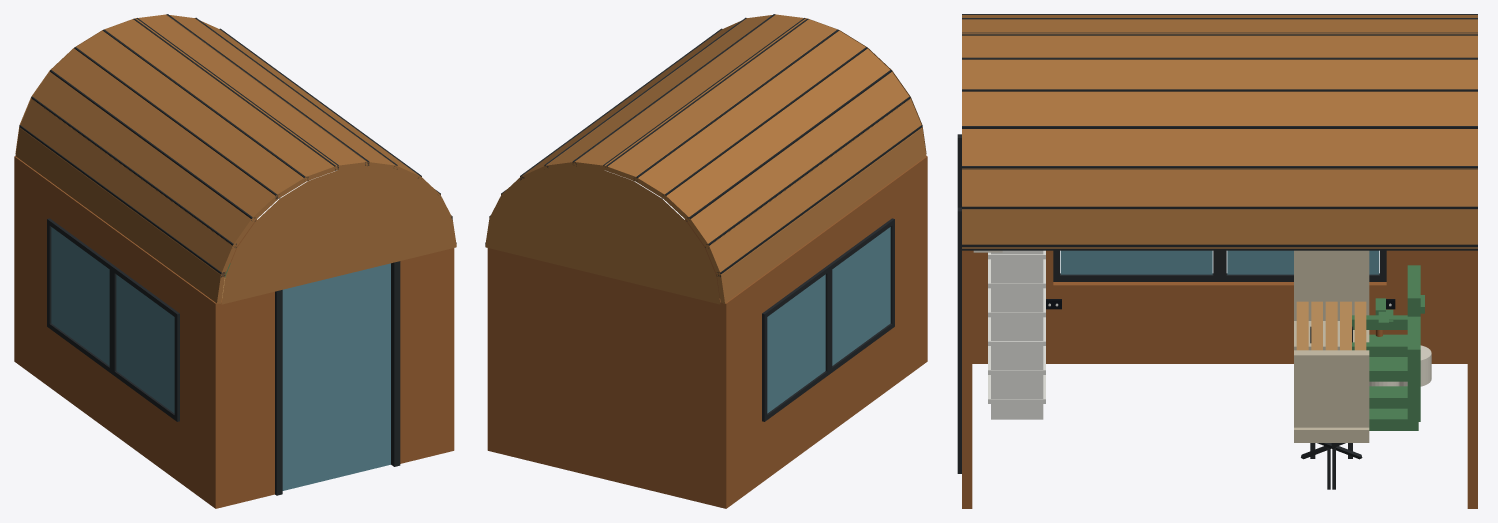
File: A4_interior_camping_blockout.glb
3 views of the same model, side by side, from view 1: azimuth 30°, elevation 25°; view 2: azimuth 150°, elevation 25°; view 3: azimuth 270°, elevation 25° (orthographic). The views are drawn at different scales.
Visible parts, largest first — view 1: ARCH_A4_DOOR_GLASS, ARCH_A4_ROOF_SOUTH_END_CAP, ARCH_A4_WEST_WALL_BELOW_WINDOWS, ARCH_A4_SOUTH_WALL_L, ARCH_A4_SOUTH_WALL_R, ARCH_A4_ROOF_PANEL_04, ARCH_A4_ROOF_PANEL_03, ARCH_A4_WEST_WALL_ABOVE_WINDOWS, ARCH_A4_ROOF_PANEL_05, ARCH_A4_ROOF_PANEL_02, ARCH_A4_ROOF_PANEL_06, ARCH_A4_ROOF_PANEL_01 (+21 smaller); view 2: ARCH_A4_NORTH_WALL, ARCH_A4_ROOF_NORTH_END_CAP, ARCH_A4_WEST_WALL_BELOW_WINDOWS, ARCH_A4_ROOF_PANEL_04, ARCH_A4_ROOF_PANEL_03, ARCH_A4_ROOF_PANEL_05, ARCH_A4_WEST_WALL_ABOVE_WINDOWS, ARCH_A4_ROOF_PANEL_02, ARCH_A4_ROOF_PANEL_06, ARCH_A4_ROOF_PANEL_01, ARCH_A4_WEST_WINDOW_01, ARCH_A4_WEST_WINDOW_02 (+17 smaller); view 3: ARCH_A4_WEST_WALL_BELOW_WINDOWS, ARCH_A4_ROOF_PANEL_11, ARCH_A4_ROOF_PANEL_10, ARCH_A4_ROOF_PANEL_12, ARCH_A4_ROOF_PANEL_09, ARCH_A4_ROOF_PANEL_08, ARCH_A4_ROOF_PANEL_07, ARCH_A4_ROOF_PANEL_06, FURN_A4_WHITE_SHELF_6TIER_UPRIGHT_2, FURN_A4_CAMP_CHAIR_N_BACK, FURN_A4_CAMP_CHAIR_S_BACK, ARCH_A4_WEST_WINDOW_01 (+30 smaller).
Boxes of the visible parts, x1,y1,x2,y2 form: ARCH_A4_DOOR_GLASS: [282, 263, 390, 490]; ARCH_A4_ROOF_SOUTH_END_CAP: [221, 166, 456, 304]; ARCH_A4_WEST_WALL_BELOW_WINDOWS: [14, 300, 222, 508]; ARCH_A4_SOUTH_WALL_L: [219, 291, 274, 507]; ARCH_A4_SOUTH_WALL_R: [400, 248, 454, 463]; ARCH_A4_ROOF_PANEL_04: [52, 47, 279, 220]; ARCH_A4_ROOF_PANEL_03: [31, 72, 255, 245]; ARCH_A4_WEST_WALL_ABOVE_WINDOWS: [14, 156, 222, 339]; ARCH_A4_ROOF_PANEL_05: [76, 29, 307, 198]; ARCH_A4_ROOF_PANEL_02: [19, 98, 236, 275]; ARCH_A4_ROOF_PANEL_06: [105, 18, 337, 181]; ARCH_A4_ROOF_PANEL_01: [15, 128, 225, 303]; ARCH_A4_NORTH_WALL: [487, 248, 722, 507]; ARCH_A4_ROOF_NORTH_END_CAP: [485, 166, 720, 304]; ARCH_A4_WEST_WALL_BELOW_WINDOWS: [723, 300, 927, 508]; ARCH_A4_ROOF_PANEL_04: [662, 47, 889, 220]; ARCH_A4_ROOF_PANEL_03: [686, 72, 910, 245]; ARCH_A4_ROOF_PANEL_05: [634, 29, 865, 197]; ARCH_A4_WEST_WALL_ABOVE_WINDOWS: [723, 156, 927, 339]; ARCH_A4_ROOF_PANEL_02: [705, 98, 922, 275]; ARCH_A4_ROOF_PANEL_06: [604, 18, 836, 181]; ARCH_A4_ROOF_PANEL_01: [716, 128, 926, 303]; ARCH_A4_WEST_WINDOW_01: [832, 227, 890, 365]; ARCH_A4_WEST_WINDOW_02: [767, 274, 825, 413]; ARCH_A4_WEST_WALL_BELOW_WINDOWS: [972, 282, 1467, 363]; ARCH_A4_ROOF_PANEL_11: [962, 169, 1477, 209]; ARCH_A4_ROOF_PANEL_10: [962, 129, 1477, 168]; ARCH_A4_ROOF_PANEL_12: [962, 210, 1477, 248]; ARCH_A4_ROOF_PANEL_09: [962, 89, 1477, 125]; ARCH_A4_ROOF_PANEL_08: [962, 57, 1477, 88]; ARCH_A4_ROOF_PANEL_07: [962, 33, 1477, 57]; ARCH_A4_ROOF_PANEL_06: [962, 19, 1477, 34]; FURN_A4_WHITE_SHELF_6TIER_UPRIGHT_2: [991, 250, 1043, 419]; FURN_A4_CAMP_CHAIR_N_BACK: [1294, 350, 1369, 427]; FURN_A4_CAMP_CHAIR_S_BACK: [1294, 250, 1369, 320]; ARCH_A4_WEST_WINDOW_01: [1060, 250, 1212, 274].
Bounding box in the file's own units: 2.49 × 3.15 × 3.64.
